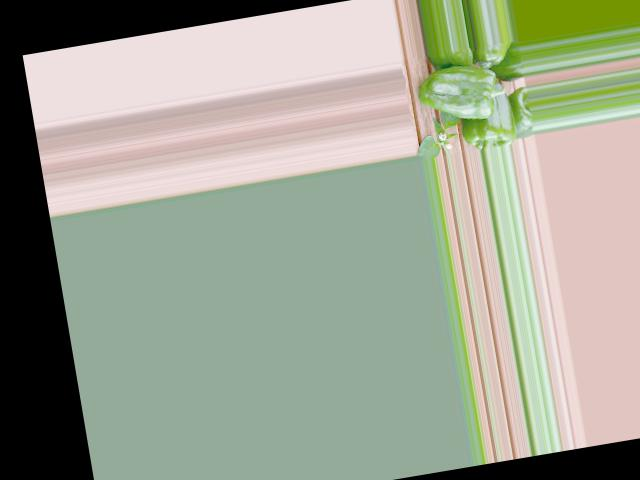bell_pepper: (477, 39, 518, 71)
